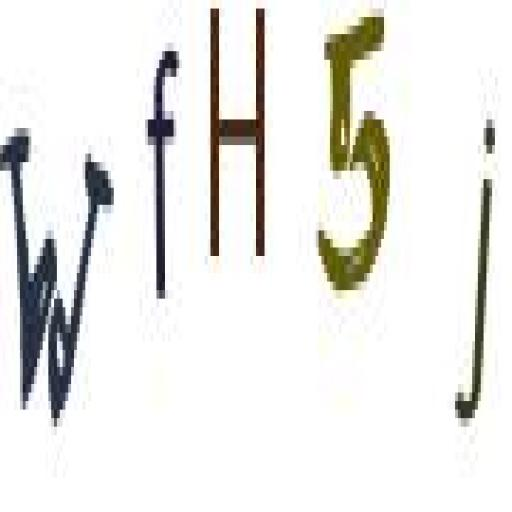5: (319, 12, 394, 338)
H: (204, 0, 270, 268)
W: (2, 102, 107, 432)
f: (138, 27, 186, 334)
j: (454, 93, 500, 447)
